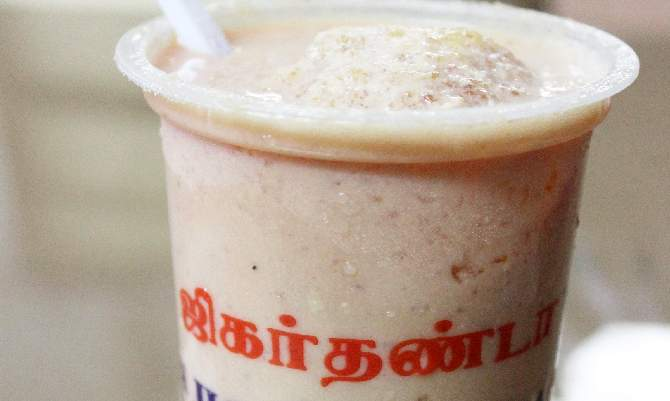jigirthanda: (157, 9, 586, 364)
